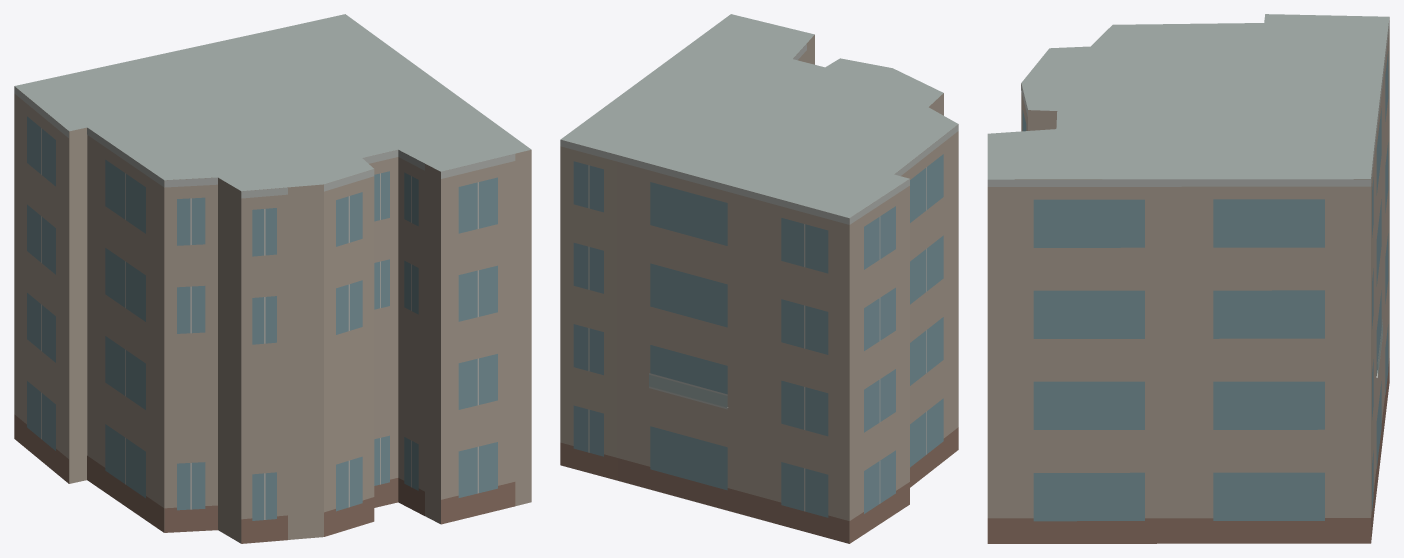
File: survey-upis-32663328.glb
The picture shows the model from 3 angles, left to right: view 1: azimuth 30°, elevation 25°; view 2: azimuth 150°, elevation 25°; view 3: azimuth 270°, elevation 25°; orthographic projection. The views are drawn at different scales.
Parts seen in each view (by area): view 1: survey-upis-32663328.tmp; view 2: survey-upis-32663328.tmp; view 3: survey-upis-32663328.tmp.
Boxes of the visible parts, box(x1,y1,x2,y2) form: survey-upis-32663328.tmp: box(14, 14, 531, 543); survey-upis-32663328.tmp: box(560, 14, 958, 543); survey-upis-32663328.tmp: box(987, 14, 1389, 543).
Size of the model in its own units: 11.5 by 11.8 by 11.82.
